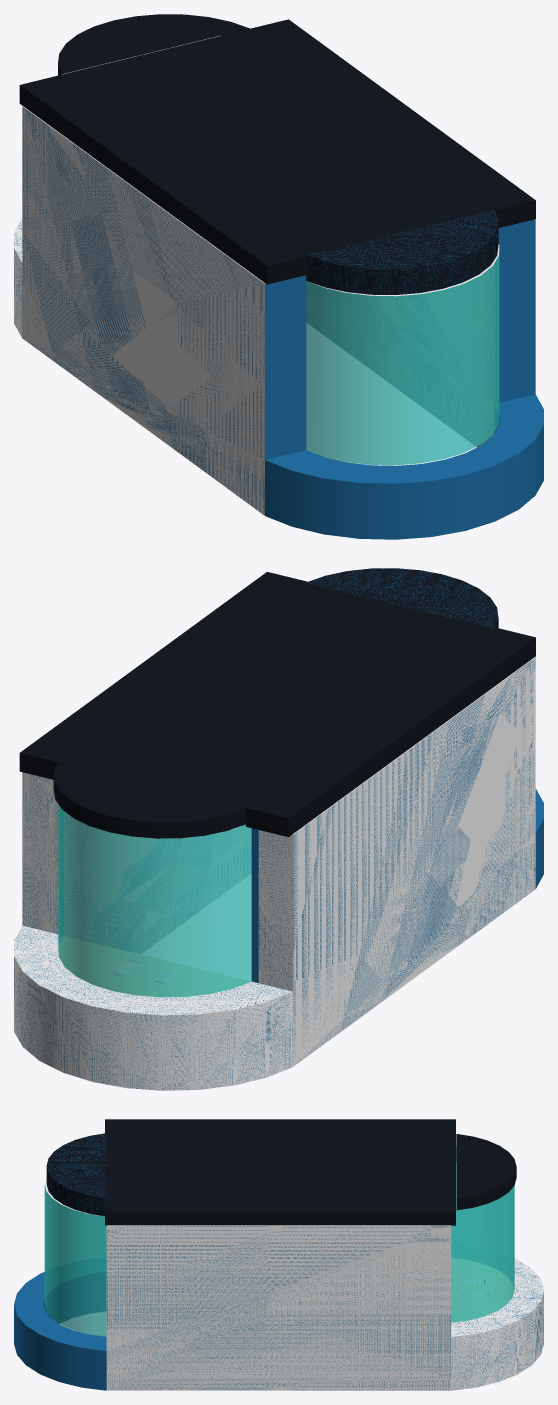
Rendered from obstacle3.dae.
3 views of the same model, one above another, from view 1: azimuth 30°, elevation 25°; view 2: azimuth 150°, elevation 25°; view 3: azimuth 270°, elevation 25° (orthographic). The views are drawn at different scales.
Visible parts, largest first — view 1: SketchUp (×5); view 2: SketchUp (×6); view 3: SketchUp (×8).
Part boxes in pixels (bbox=[...]): SketchUp (×5): bbox=[14, 14, 543, 539]; SketchUp (×6): bbox=[14, 568, 543, 1090]; SketchUp (×8): bbox=[14, 1119, 543, 1390].
Size of the model in its own units: 181 by 431 by 160.
